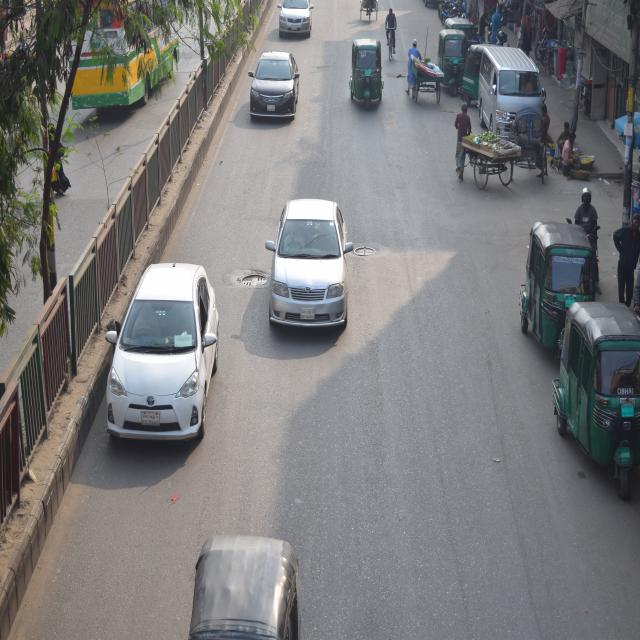bus: (64, 0, 181, 97)
car: (104, 240, 223, 453), (266, 196, 352, 338), (250, 50, 299, 120), (278, 0, 318, 40)
microbus: (474, 49, 548, 149)
